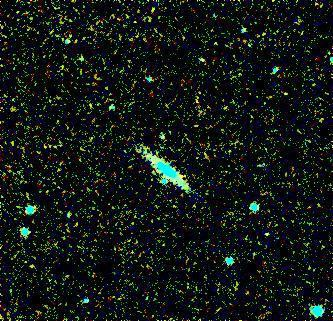star: (253, 213, 283, 243)
